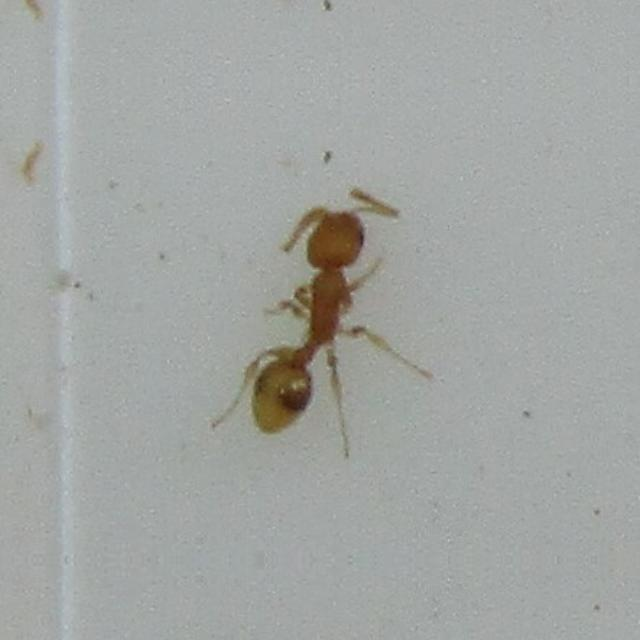Temnothorax: (192, 171, 432, 457)
